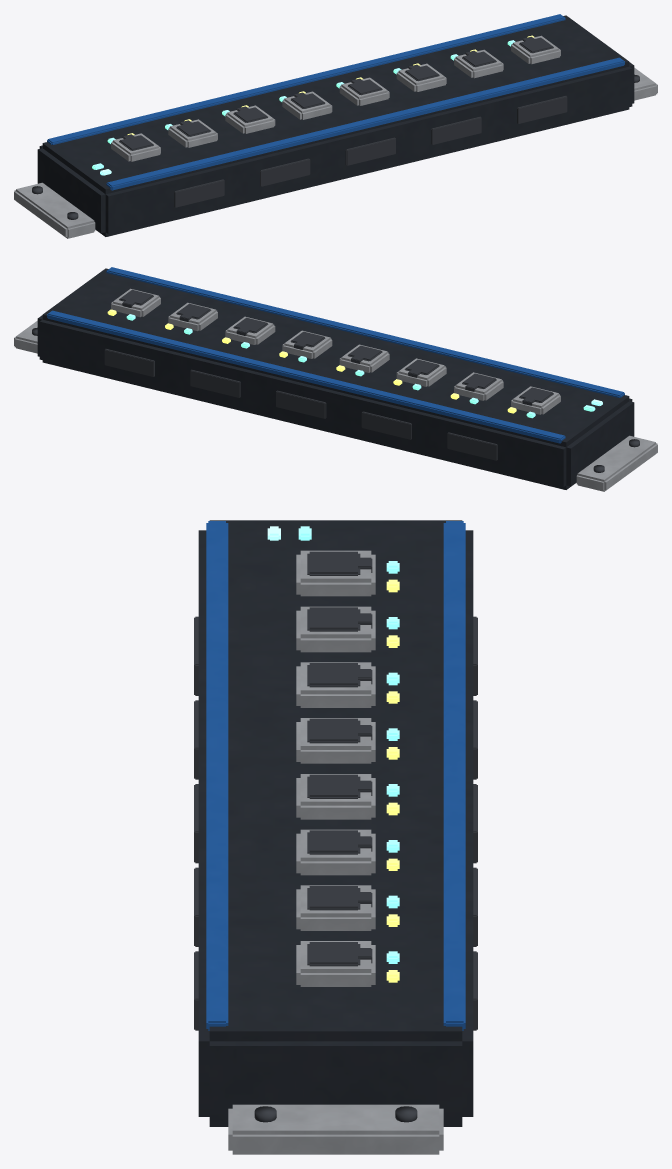
File: lan_strip.glb
3 views of the same model, one above another, from view 1: azimuth 30°, elevation 25°; view 2: azimuth 150°, elevation 25°; view 3: azimuth 270°, elevation 25° (orthographic). The views are drawn at different scales.
Visible parts, largest first — view 1: LanStrip_Mesh; view 2: LanStrip_Mesh; view 3: LanStrip_Mesh.
Boxes of the visible parts, x1,y1,x2,y2 form: LanStrip_Mesh: (14, 14, 657, 238); LanStrip_Mesh: (14, 267, 657, 491); LanStrip_Mesh: (194, 520, 477, 1154).
Bounding box in the file's own units: 0.622 × 0.0585 × 0.129.
8 materials, 4 textured.
